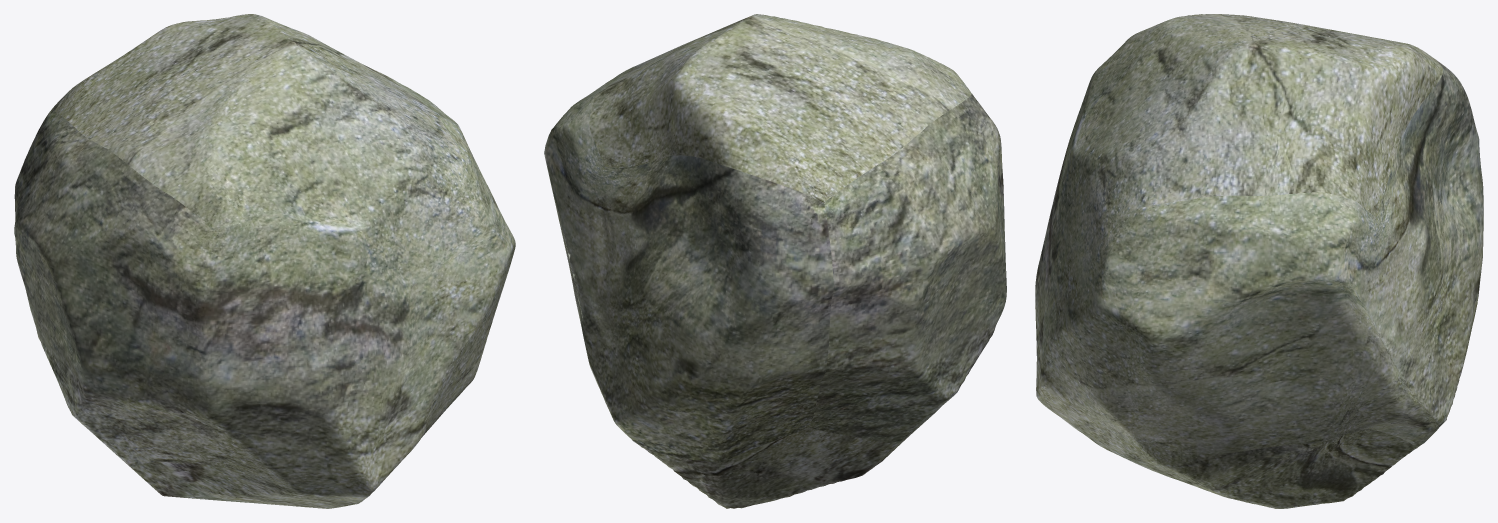
File: rock_3.obj
3 views of the same model, side by side, from view 1: azimuth 30°, elevation 25°; view 2: azimuth 150°, elevation 25°; view 3: azimuth 270°, elevation 25° (orthographic). The views are drawn at different scales.
Visible parts, largest first — view 1: ZBrush_defualt_group; view 2: ZBrush_defualt_group; view 3: ZBrush_defualt_group.
Boxes of the visible parts, box(x1,y1,x2,y2) form: ZBrush_defualt_group: box(14, 14, 515, 508); ZBrush_defualt_group: box(544, 14, 1006, 508); ZBrush_defualt_group: box(1035, 14, 1483, 508).
Size of the model in its own units: 1.1 by 1.17 by 1.01.
